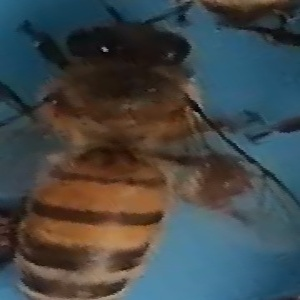bee: (10, 7, 207, 300)
